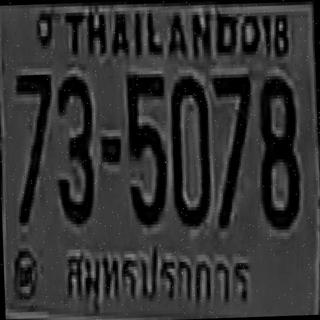N00: (168, 72, 210, 224)
N03: (52, 73, 94, 221)
N05: (124, 69, 168, 223)
N07: (212, 71, 253, 225), (14, 71, 54, 223)
N08: (255, 72, 298, 227)
P57: (54, 230, 258, 320)
